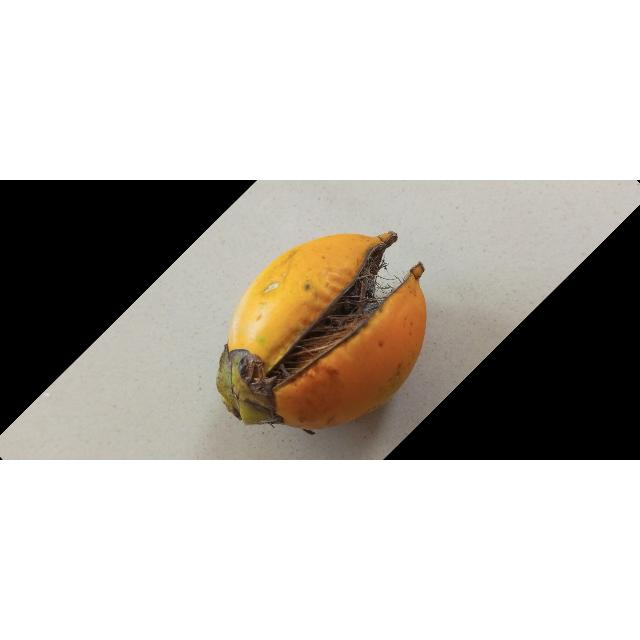damaged: (216, 232, 426, 435)
